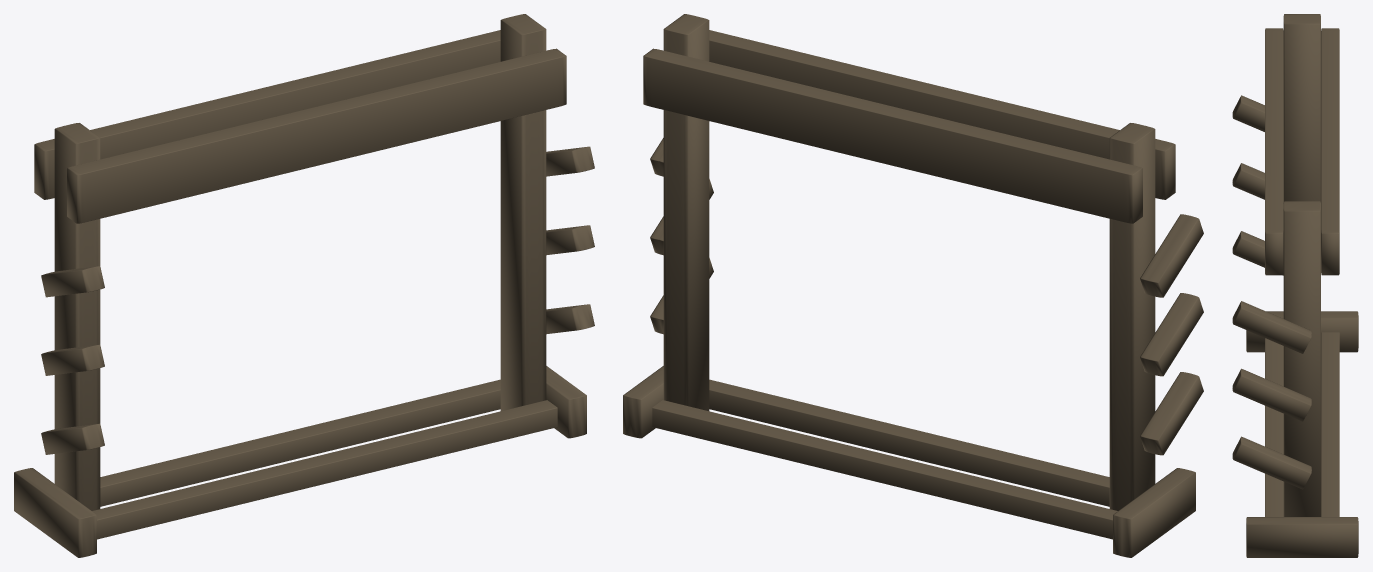
The model's file is weapon_stand.fbx.
3 renders of one model, left to right at view 1: azimuth 30°, elevation 25°; view 2: azimuth 150°, elevation 25°; view 3: azimuth 270°, elevation 25°, orthographic. The views are drawn at different scales.
Parts seen in each view (by area): view 1: wood weapon stand; view 2: wood weapon stand; view 3: wood weapon stand.
Part boxes in pixels (x1,y1,x2,y2): wood weapon stand: (14,14,594,557); wood weapon stand: (623,14,1203,557); wood weapon stand: (1232,14,1358,557).
Bounding box in the file's own units: 270 × 200 × 67.33.
